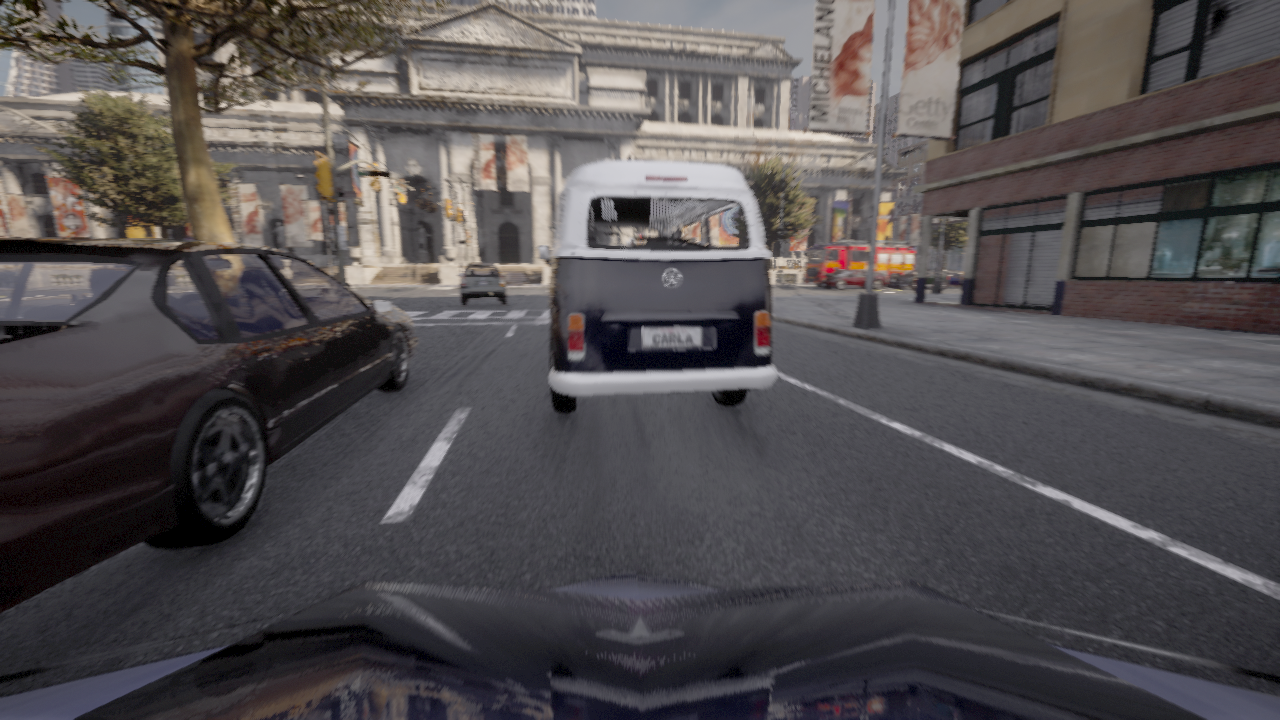cyclist: (0, 569, 1279, 719), (0, 238, 418, 613), (538, 160, 777, 413), (803, 240, 915, 288), (458, 263, 506, 305), (821, 270, 885, 289), (896, 269, 948, 288), (948, 272, 962, 286), (959, 274, 962, 284)
